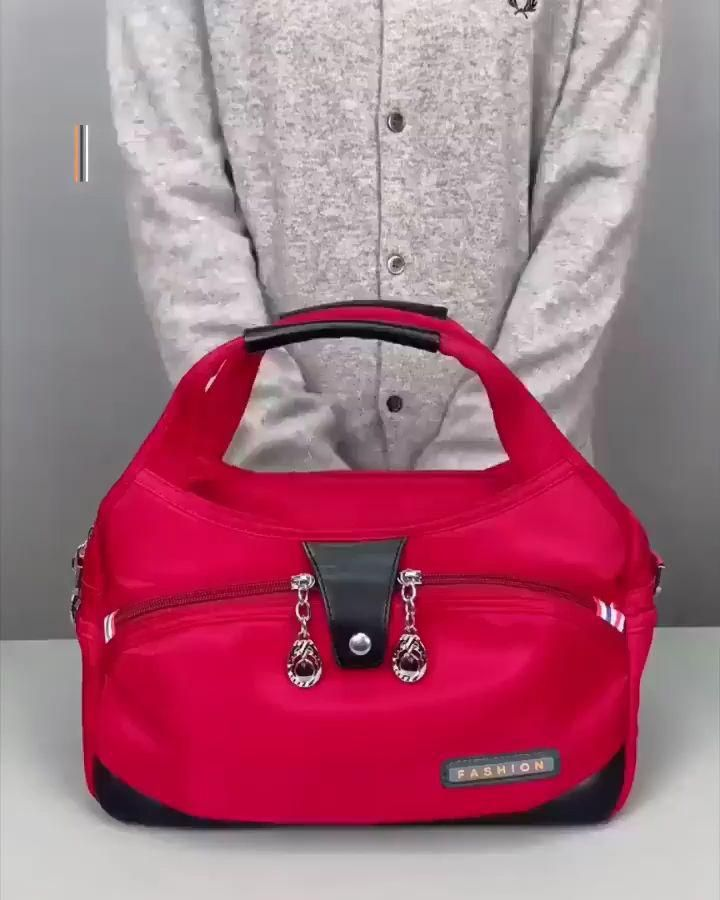nylon: (66, 300, 664, 829)
